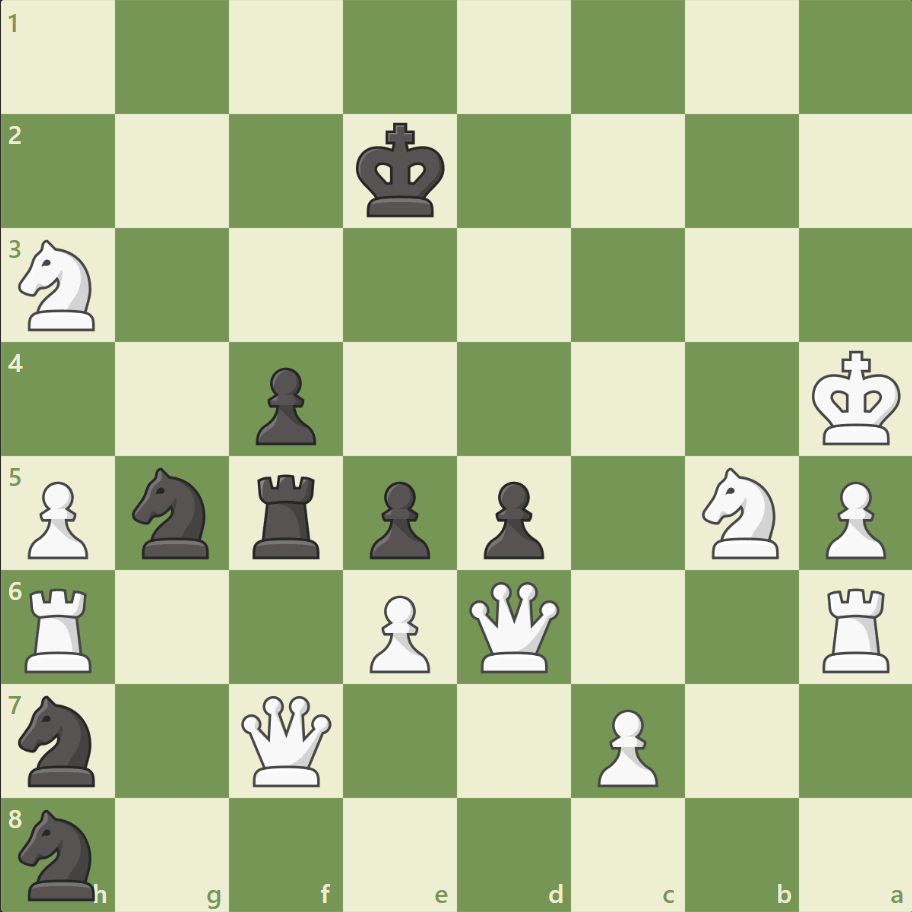K: (806, 344, 906, 452)
N: (692, 461, 789, 564), (11, 234, 108, 337)
P: (20, 473, 95, 564), (588, 700, 662, 791), (361, 586, 435, 677), (815, 473, 889, 564)
Q: (464, 576, 563, 676), (237, 690, 336, 789)
R: (814, 579, 897, 676), (19, 579, 102, 676)
k: (351, 117, 451, 225)
n: (124, 461, 222, 564), (11, 688, 108, 791), (11, 802, 108, 904)
p: (474, 473, 549, 564), (247, 359, 322, 450), (361, 473, 435, 564)
r: (246, 466, 329, 563)
